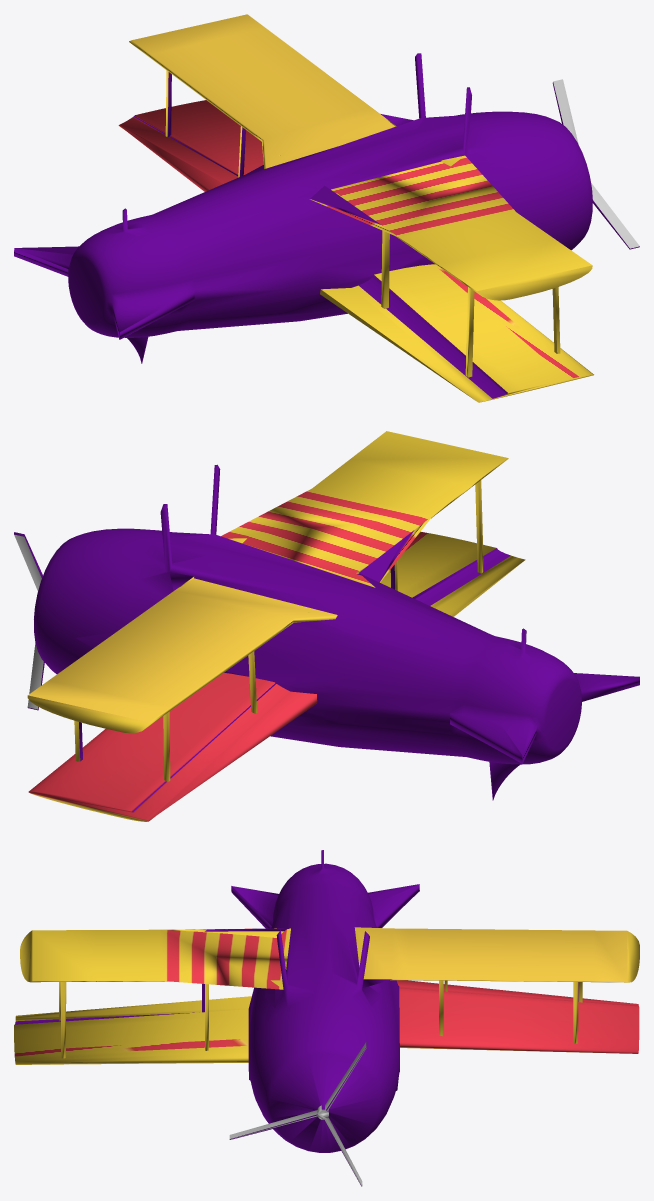
The picture shows the model from 3 angles, top to bottom: view 1: azimuth 30°, elevation 25°; view 2: azimuth 150°, elevation 25°; view 3: azimuth 270°, elevation 25°; orthographic projection. The views are drawn at different scales.
Parts seen in each view (by area): view 1: Cylinder, flangs, Props; view 2: Cylinder, flangs, Props; view 3: flangs, Cylinder, Props.
Part boxes in pixels (x1,y1,x2,y2): Cylinder: (14,53,639,398); flangs: (118,14,593,402); Props: (553,79,639,248); Cylinder: (14,464,639,812); flangs: (27,431,525,821); Props: (14,534,43,709); flangs: (14,927,639,1064); Cylinder: (15,850,578,1184); Props: (229,1042,366,1186).
Bounding box in the file's own units: 8.27 × 3.52 × 9.96.
